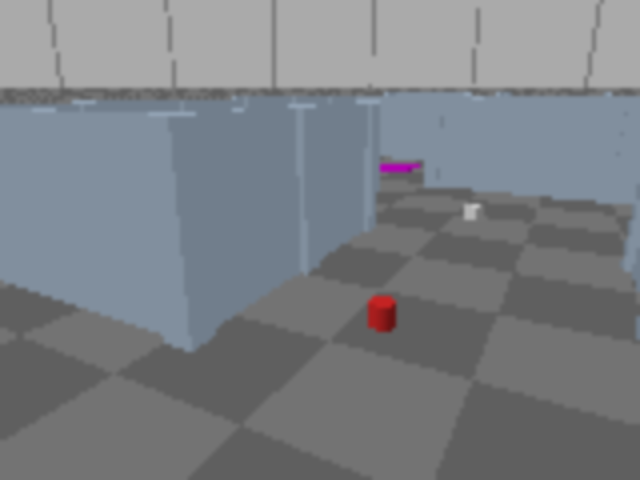goal_zone: (352, 161, 420, 174)
puck: (369, 295, 396, 331), (464, 203, 484, 220)
